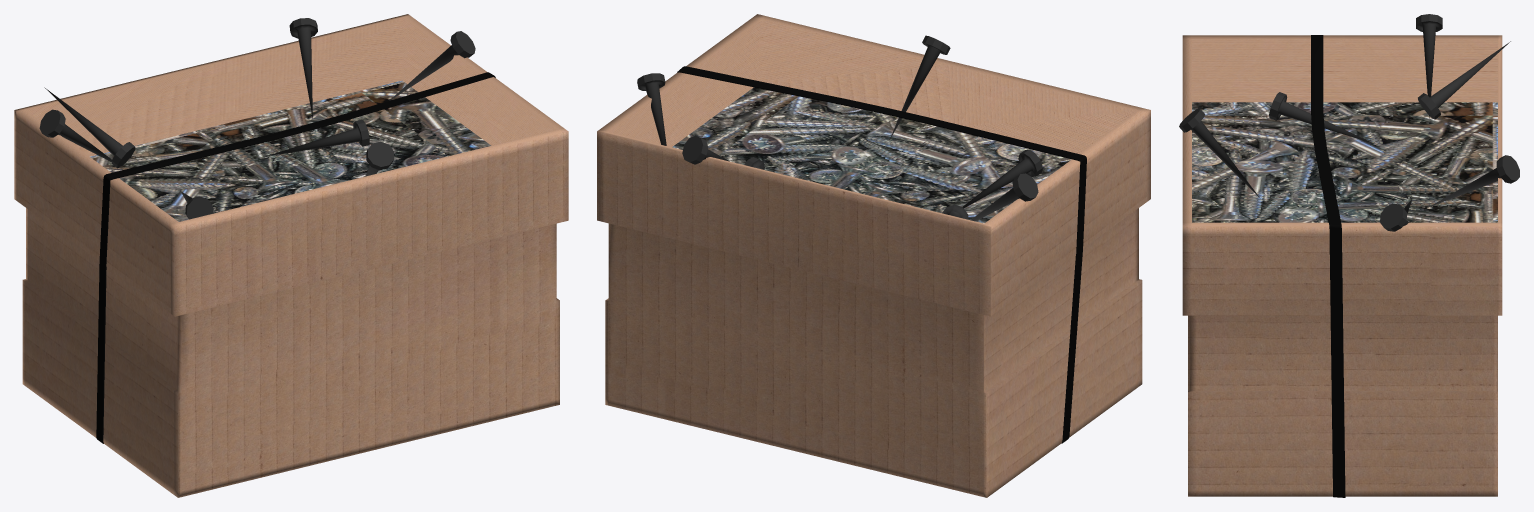
Rendered from nailbox.fbx.
The picture shows the model from 3 angles, left to right: view 1: azimuth 30°, elevation 25°; view 2: azimuth 150°, elevation 25°; view 3: azimuth 270°, elevation 25°; orthographic projection.
Visible parts, largest first — view 1: C_paperBox_low; view 2: C_paperBox_low; view 3: C_paperBox_low.
Part boxes in pixels (box(x1,y1,x2,y2)): C_paperBox_low: box(14, 14, 568, 497); C_paperBox_low: box(597, 14, 1150, 497); C_paperBox_low: box(1179, 14, 1519, 497).
Bounding box in the file's own units: 34.03 × 23.78 × 24.33.
4 materials, 2 textured.
